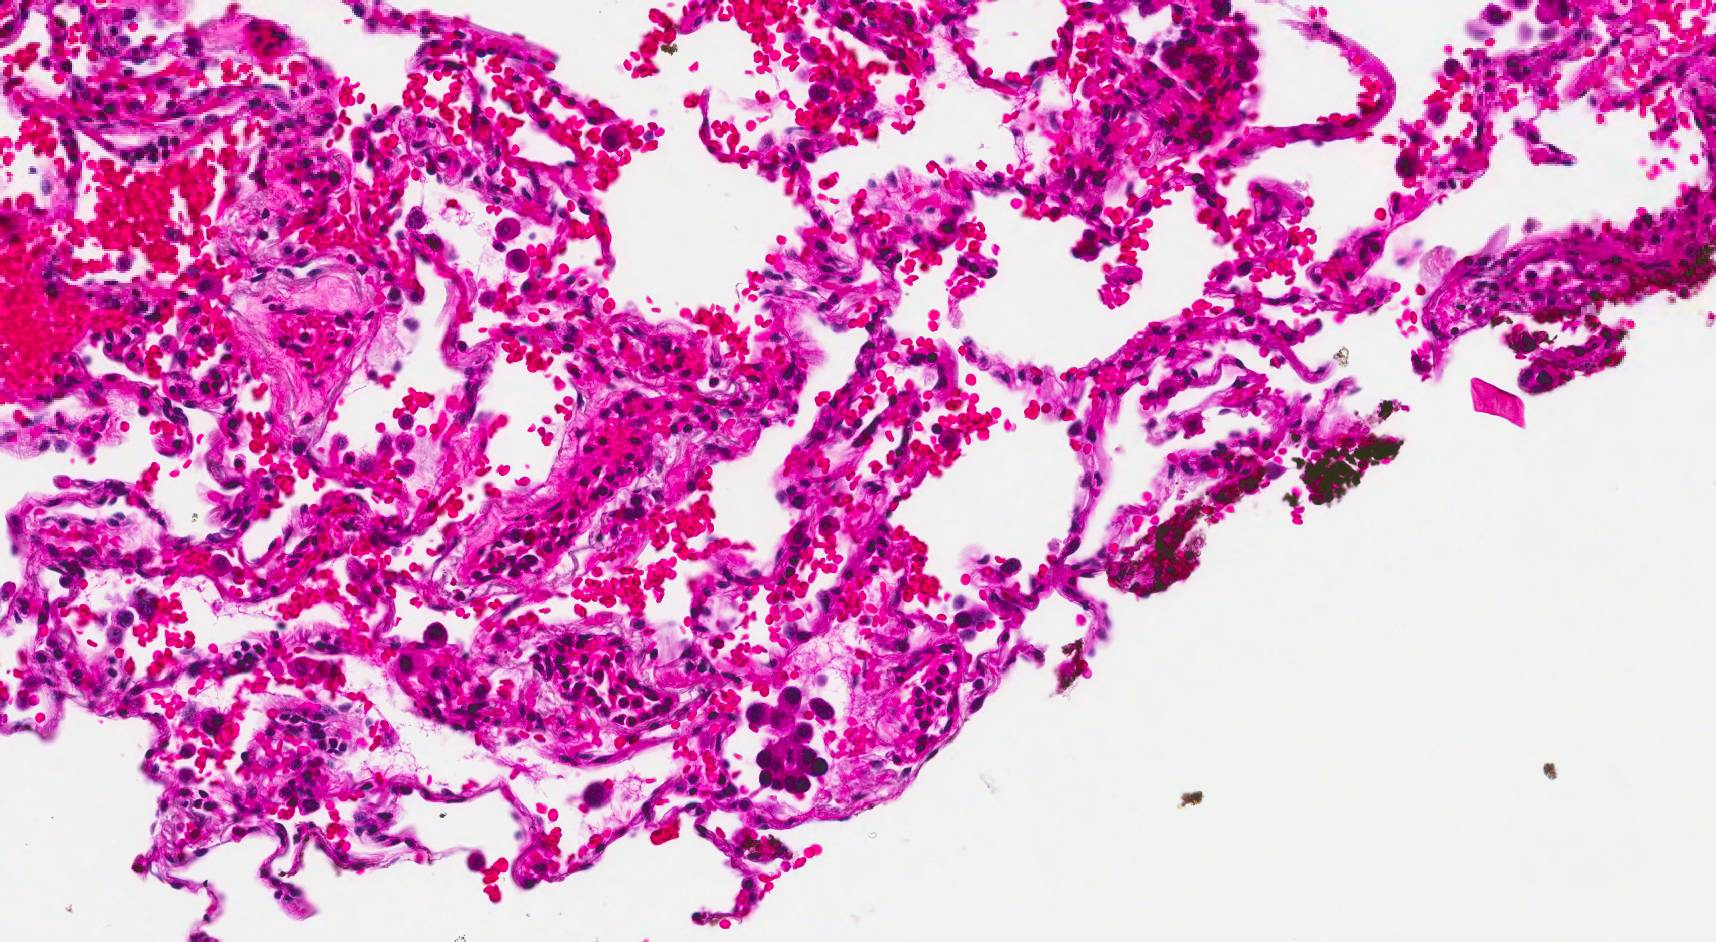stas: (744, 683, 832, 798)
